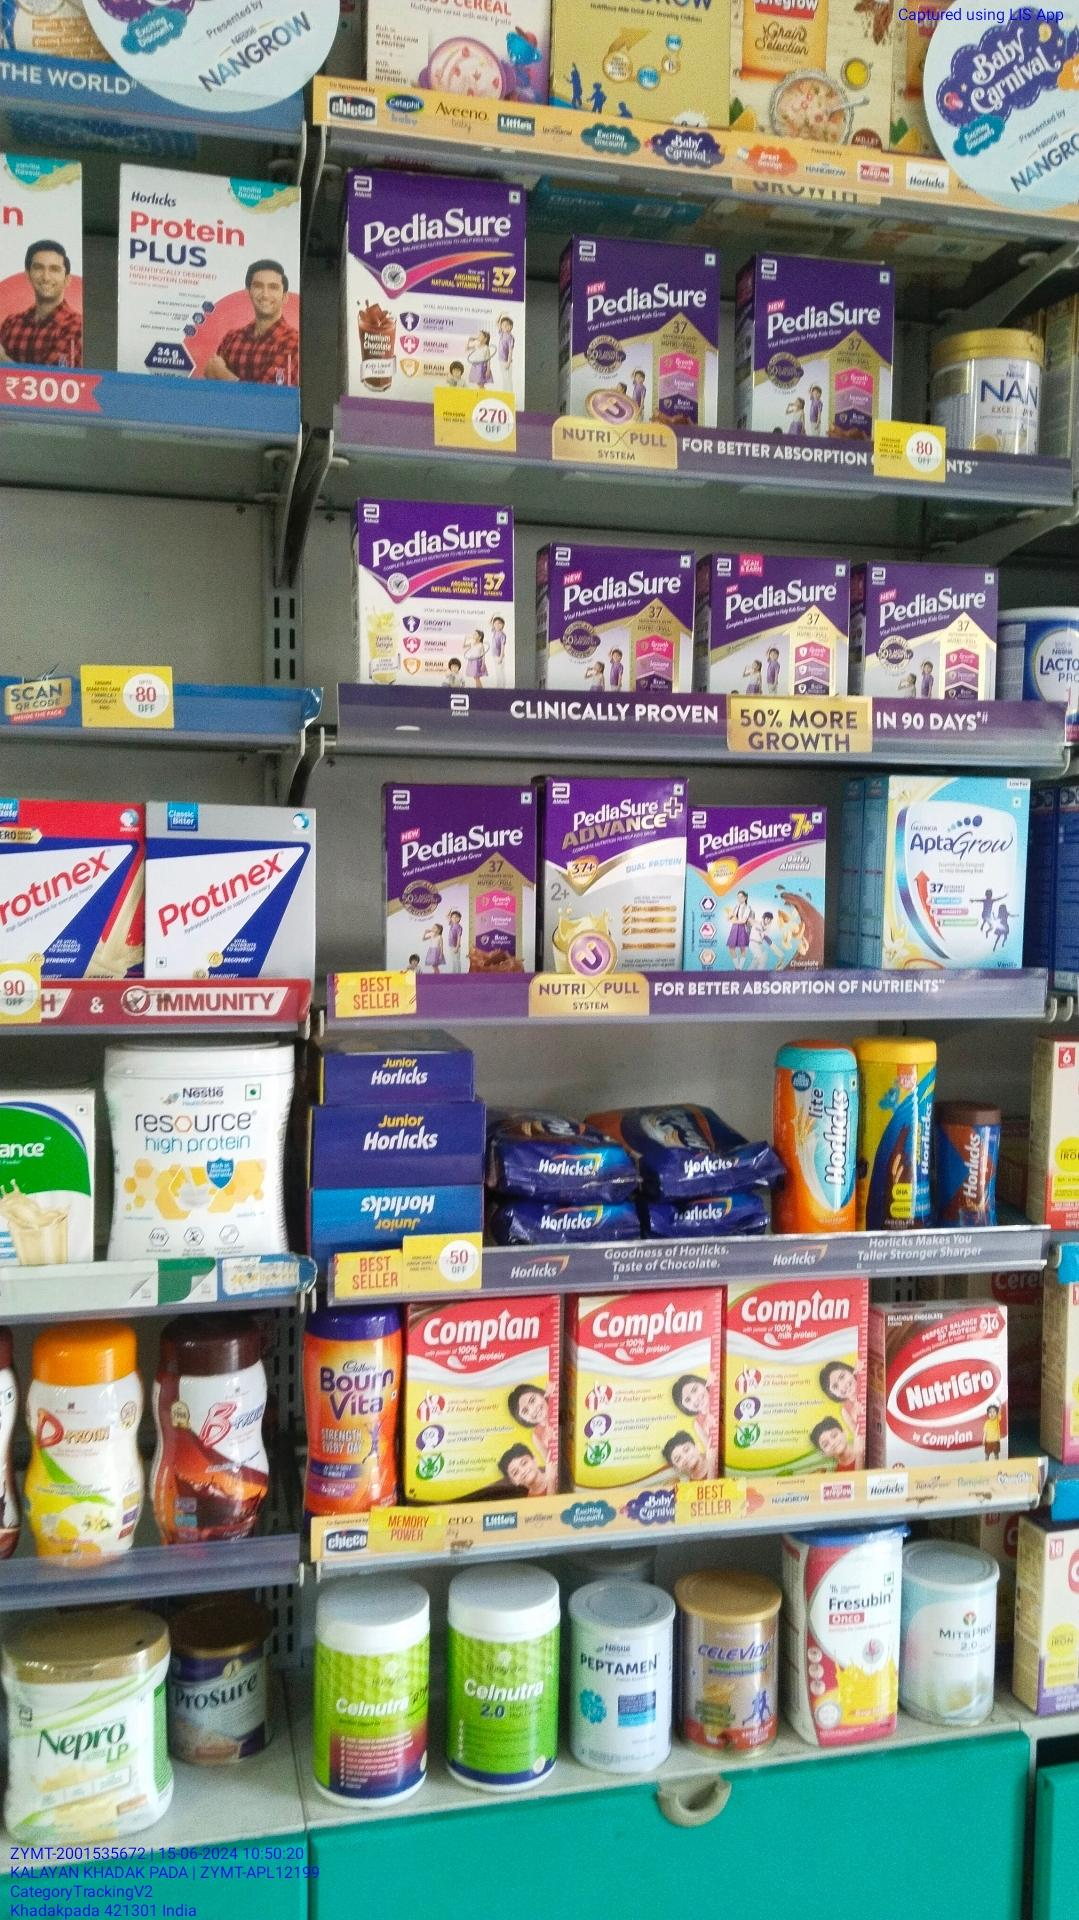BOURN_VITA_500_G_JAR: (299, 1305, 402, 1515)
COMPLAN_CHOCOLATE_500_GMS_PACK: (408, 1298, 562, 1501)
COMPLAN_KESAR_BADAM_500_GMS_PACK: (576, 1290, 724, 1486)
COMPLAN_PISTA_BADAM_500_GMS_PACK: (729, 1282, 869, 1482)
HORLICKS_LITE_REGULAR_MALT_500_GM_JAR: (776, 1036, 859, 1232)
HORLICK_CHOCOLATE_200_G_JAR: (935, 1098, 1000, 1232)
PEDIASURE_7_PLUS_CHOCOLATE_400_G_PACK: (687, 800, 824, 975)
PEDIASURE_CHOCOLATE_500_G_PACK: (381, 777, 534, 975), (572, 233, 723, 429), (757, 260, 886, 446)
